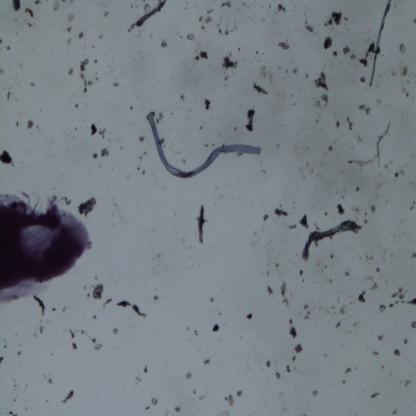Background material: (115, 295, 145, 317), (81, 329, 105, 352), (196, 205, 209, 243), (80, 193, 102, 214), (81, 58, 94, 92), (361, 39, 377, 66), (222, 50, 239, 75), (87, 277, 105, 298), (35, 289, 49, 315), (256, 61, 274, 81), (322, 11, 344, 27), (314, 70, 330, 92), (389, 287, 405, 309), (0, 144, 15, 166), (268, 205, 291, 219), (280, 281, 291, 308), (253, 82, 271, 96), (245, 108, 254, 132), (299, 210, 309, 230), (86, 121, 98, 136), (95, 124, 107, 139), (223, 392, 234, 407), (62, 390, 74, 403), (40, 372, 53, 384), (148, 395, 160, 408), (323, 35, 332, 51), (286, 218, 298, 230), (202, 97, 212, 111), (25, 119, 37, 130), (359, 104, 371, 115), (400, 61, 407, 79), (265, 284, 276, 295), (66, 10, 76, 22), (100, 146, 110, 158), (380, 247, 388, 262), (345, 116, 353, 131), (399, 42, 407, 56), (288, 326, 296, 340), (276, 3, 286, 14), (24, 7, 34, 18), (278, 40, 289, 50), (199, 52, 209, 63), (337, 304, 348, 314), (403, 376, 412, 388), (103, 298, 112, 310), (13, 0, 22, 12), (36, 322, 44, 335), (358, 290, 366, 303), (90, 150, 100, 160), (369, 281, 379, 291), (184, 370, 193, 381), (375, 332, 386, 341), (221, 0, 232, 9), (294, 343, 303, 354), (68, 327, 76, 339), (292, 64, 300, 76), (212, 323, 220, 335), (384, 161, 394, 170), (406, 296, 416, 305), (314, 97, 322, 108), (371, 390, 382, 398), (136, 132, 147, 140), (336, 204, 344, 215), (60, 304, 70, 312), (296, 268, 306, 276), (156, 112, 164, 122), (303, 309, 310, 320), (204, 15, 212, 24), (174, 406, 183, 414), (230, 23, 238, 32), (142, 4, 151, 12), (322, 92, 328, 104), (378, 304, 386, 313), (364, 254, 373, 262), (203, 357, 211, 366), (342, 46, 350, 55), (78, 30, 85, 40), (352, 207, 359, 217), (68, 65, 74, 76), (410, 318, 416, 329), (198, 392, 206, 400), (144, 404, 152, 412), (9, 409, 18, 416), (152, 292, 159, 301), (103, 9, 110, 18), (287, 317, 294, 326), (186, 34, 195, 41), (53, 0, 60, 9), (6, 91, 12, 101), (67, 24, 73, 34), (330, 304, 336, 314), (193, 327, 198, 339), (402, 87, 408, 97), (247, 311, 254, 319), (26, 20, 33, 28), (15, 348, 22, 356), (394, 349, 401, 357), (371, 349, 379, 356), (207, 8, 215, 15), (356, 135, 363, 143), (72, 342, 79, 350), (359, 76, 367, 83), (274, 372, 282, 379), (136, 375, 142, 384), (329, 252, 335, 261), (263, 212, 269, 221), (266, 360, 272, 369), (159, 136, 164, 146), (285, 364, 290, 374), (250, 241, 256, 249), (403, 338, 409, 346), (305, 26, 313, 32), (67, 38, 73, 46), (391, 408, 397, 416), (113, 326, 119, 334), (392, 70, 398, 78), (112, 81, 120, 87), (198, 123, 204, 131), (354, 184, 360, 192), (410, 201, 415, 210), (303, 302, 309, 309), (344, 367, 350, 374), (375, 99, 381, 106), (309, 168, 314, 176), (143, 364, 148, 372), (0, 355, 5, 363), (333, 50, 338, 58), (381, 364, 386, 372), (371, 206, 376, 214), (34, 0, 44, 4), (224, 73, 229, 81), (276, 142, 282, 148), (162, 42, 168, 48), (181, 158, 187, 164), (98, 34, 104, 40), (328, 147, 334, 153), (328, 278, 334, 284), (225, 29, 230, 36), (242, 1, 247, 8), (5, 45, 12, 50), (305, 73, 310, 80), (394, 171, 399, 178), (349, 55, 356, 60), (15, 119, 19, 127), (336, 320, 340, 328), (305, 160, 309, 168), (336, 121, 340, 129), (218, 28, 223, 34), (313, 390, 318, 396), (194, 48, 200, 53), (204, 142, 210, 147), (236, 391, 242, 396), (344, 16, 350, 21), (324, 210, 329, 216), (375, 267, 380, 273), (411, 252, 416, 258), (323, 352, 328, 358), (180, 94, 184, 101), (236, 47, 241, 52), (194, 57, 199, 62), (260, 18, 265, 23), (345, 270, 350, 275), (51, 307, 57, 311), (142, 169, 146, 175), (137, 166, 141, 172), (234, 126, 238, 132), (292, 356, 296, 362), (400, 170, 404, 176), (275, 262, 279, 268), (199, 16, 203, 22), (284, 68, 288, 74), (218, 21, 221, 28), (139, 154, 142, 161), (255, 50, 260, 54), (30, 82, 35, 86), (200, 26, 205, 30), (183, 6, 187, 11), (91, 45, 96, 49), (304, 20, 308, 25), (75, 102, 79, 107), (3, 344, 7, 349), (364, 219, 368, 224), (314, 119, 320, 122), (94, 313, 97, 319), (13, 398, 17, 402), (69, 0, 73, 4), (210, 298, 214, 302), (364, 212, 368, 216), (290, 94, 294, 98), (130, 107, 133, 112), (95, 59, 98, 64), (413, 18, 416, 23), (294, 102, 297, 106), (121, 146, 124, 150), (268, 5, 272, 8), (25, 383, 28, 387), (46, 399, 50, 402), (96, 76, 98, 81), (74, 126, 76, 131), (0, 39, 2, 44), (294, 4, 297, 7), (144, 151, 147, 154), (62, 0, 66, 2), (343, 380, 345, 384), (250, 18, 252, 21), (194, 390, 195, 394), (247, 16, 249, 18), (267, 11, 269, 13), (303, 279, 304, 282), (262, 7, 263, 9)
Cellulose filter fibre: (298, 218, 362, 262), (347, 122, 392, 167), (368, 1, 390, 89), (128, 0, 169, 32)
Microfibre: (141, 107, 264, 190)
Pen: (0, 190, 91, 304)
